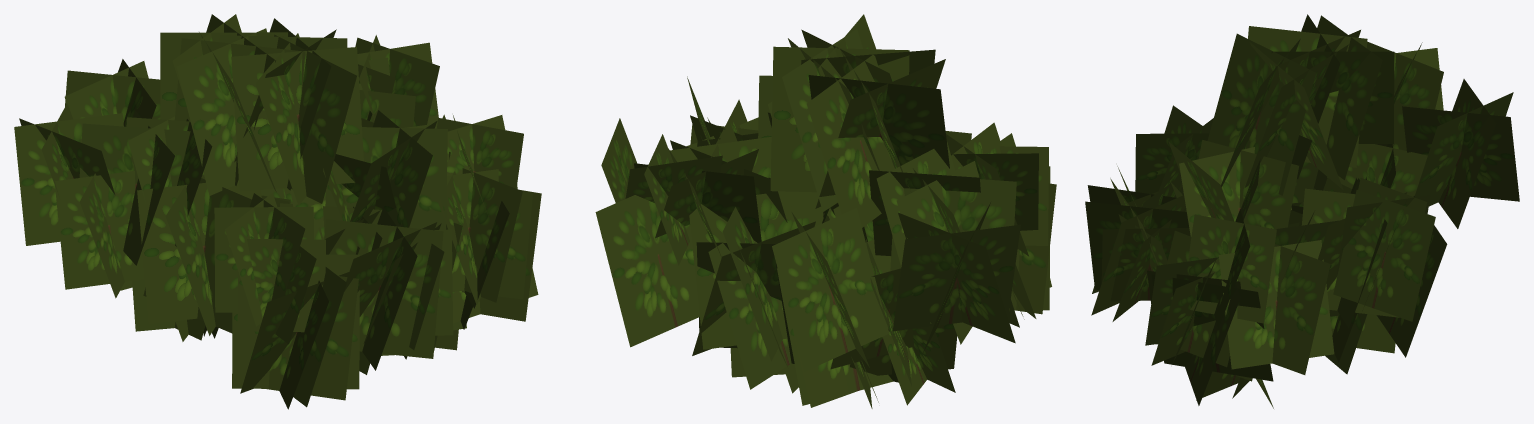
File: SM_Art_Veg_Birch_1_LeavesPale.gltf
The picture shows the model from 3 angles, left to right: view 1: azimuth 30°, elevation 25°; view 2: azimuth 150°, elevation 25°; view 3: azimuth 270°, elevation 25°; orthographic projection. The views are drawn at different scales.
Visible parts, largest first — view 1: SM_Art_Veg_Birch_1_LeavesPale; view 2: SM_Art_Veg_Birch_1_LeavesPale; view 3: SM_Art_Veg_Birch_1_LeavesPale.
Part boxes in pixels (<box>): SM_Art_Veg_Birch_1_LeavesPale: <box>14,14,541,409</box>; SM_Art_Veg_Birch_1_LeavesPale: <box>595,14,1056,408</box>; SM_Art_Veg_Birch_1_LeavesPale: <box>1085,14,1519,408</box>.
Size of the model in its own units: 5.51 by 3.81 by 5.11.
1 material, 1 textured.
